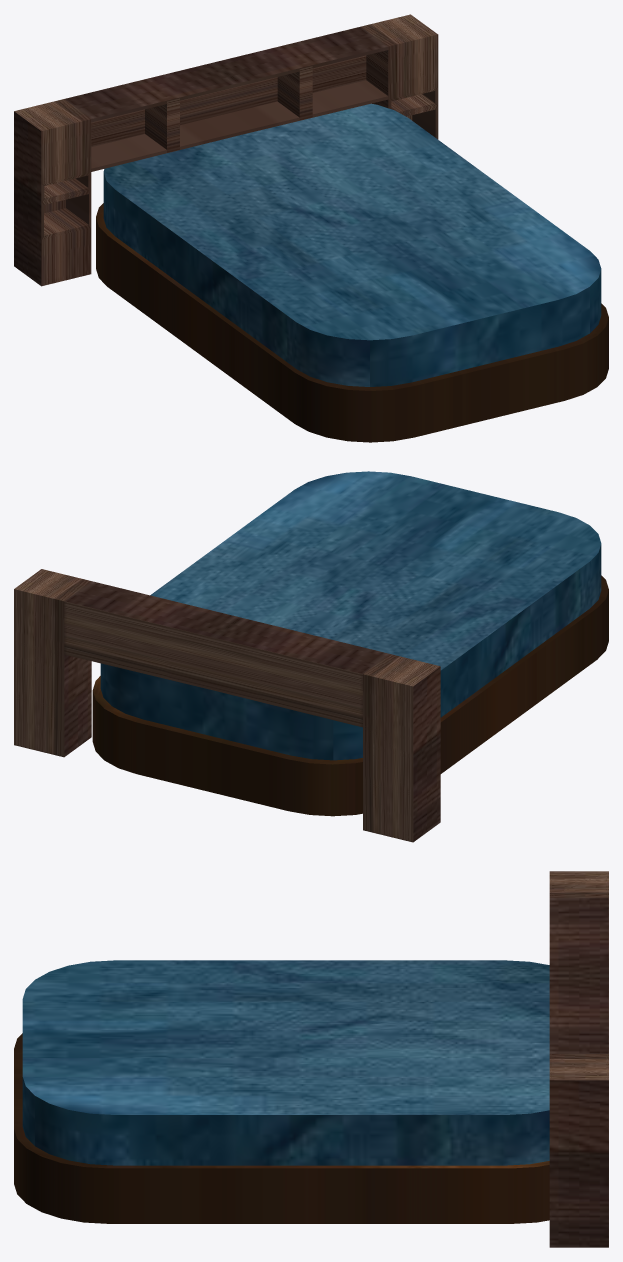
File: Colored Bed.fbx
3 renders of one model, top to bottom at view 1: azimuth 30°, elevation 25°; view 2: azimuth 150°, elevation 25°; view 3: azimuth 270°, elevation 25°, orthographic. The views are drawn at different scales.
Visible parts, largest first — view 1: pCube5, pCube12, pCube13; view 2: pCube5, pCube12, pCube13; view 3: pCube5, pCube13, pCube12.
Part boxes in pixels (x1,y1,x2,y2): pCube5: [103, 103, 601, 386]; pCube12: [14, 14, 438, 286]; pCube13: [96, 203, 608, 442]; pCube5: [100, 471, 601, 760]; pCube12: [14, 569, 440, 842]; pCube13: [92, 575, 608, 816]; pCube5: [22, 960, 549, 1165]; pCube13: [14, 1033, 549, 1223]; pCube12: [549, 871, 608, 1247].
Size of the model in its own units: 15.37 by 5.74 by 18.48.
3 materials, 3 textured.
